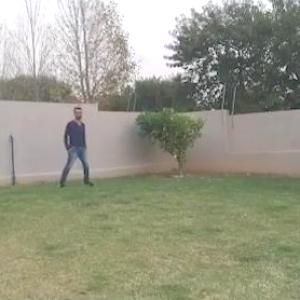follow: (66, 98, 88, 190)
